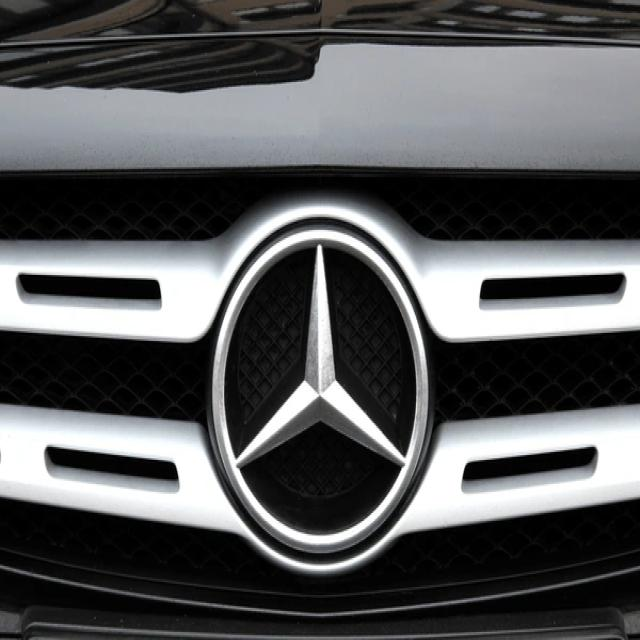mercedes: (197, 211, 435, 573)
